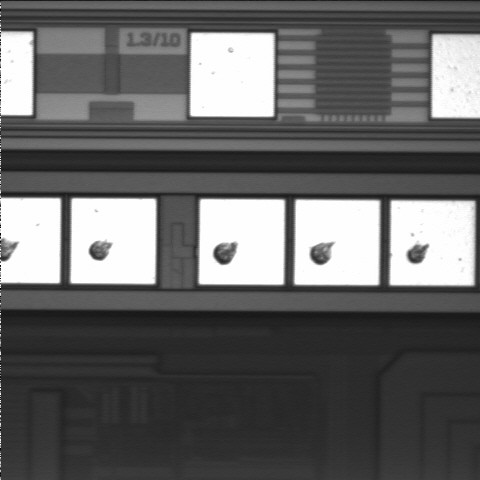pad: (199, 199, 285, 285), (71, 198, 156, 284), (295, 200, 380, 285), (190, 33, 274, 117), (390, 201, 474, 285)
